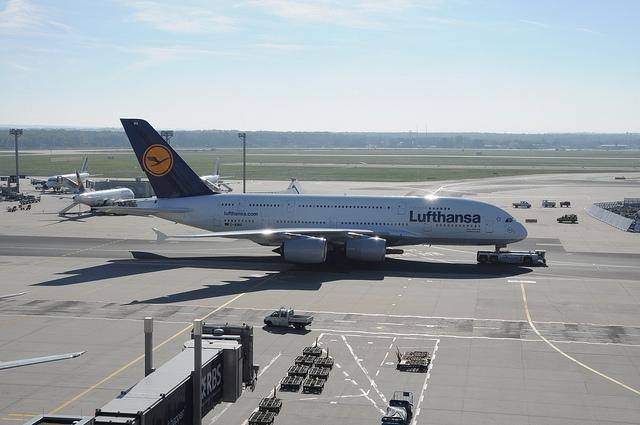truck: (264, 307, 314, 330), (477, 250, 547, 266), (557, 214, 578, 223), (512, 201, 532, 208), (542, 200, 556, 207)
